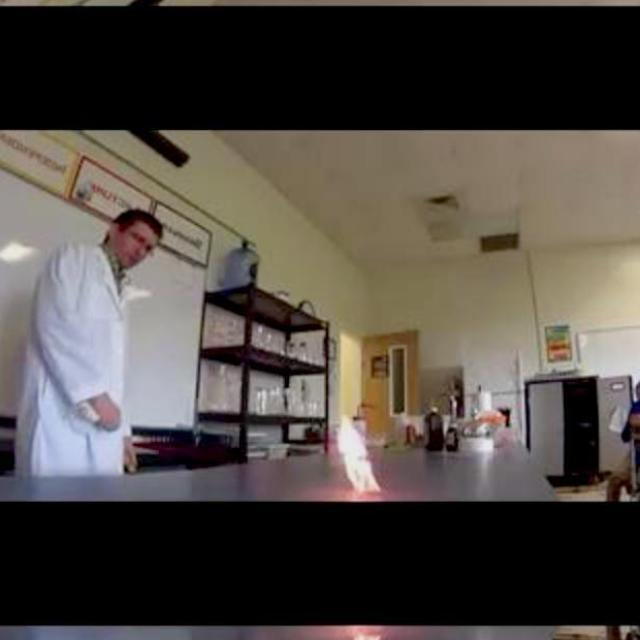smoke: (332, 410, 387, 496), (334, 631, 388, 640)
